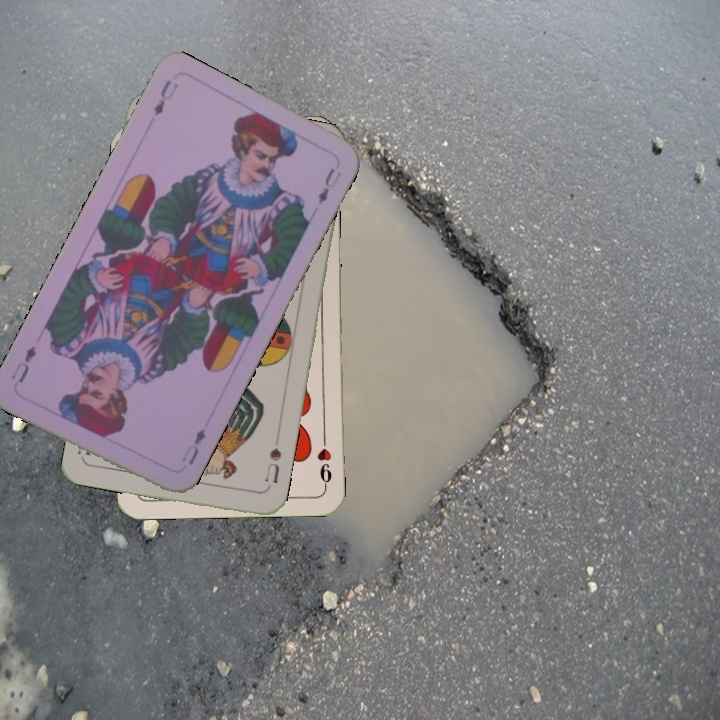EU: (177, 419, 211, 468), (149, 75, 182, 119)
H9: (313, 431, 335, 490)
SU: (261, 444, 284, 493)
